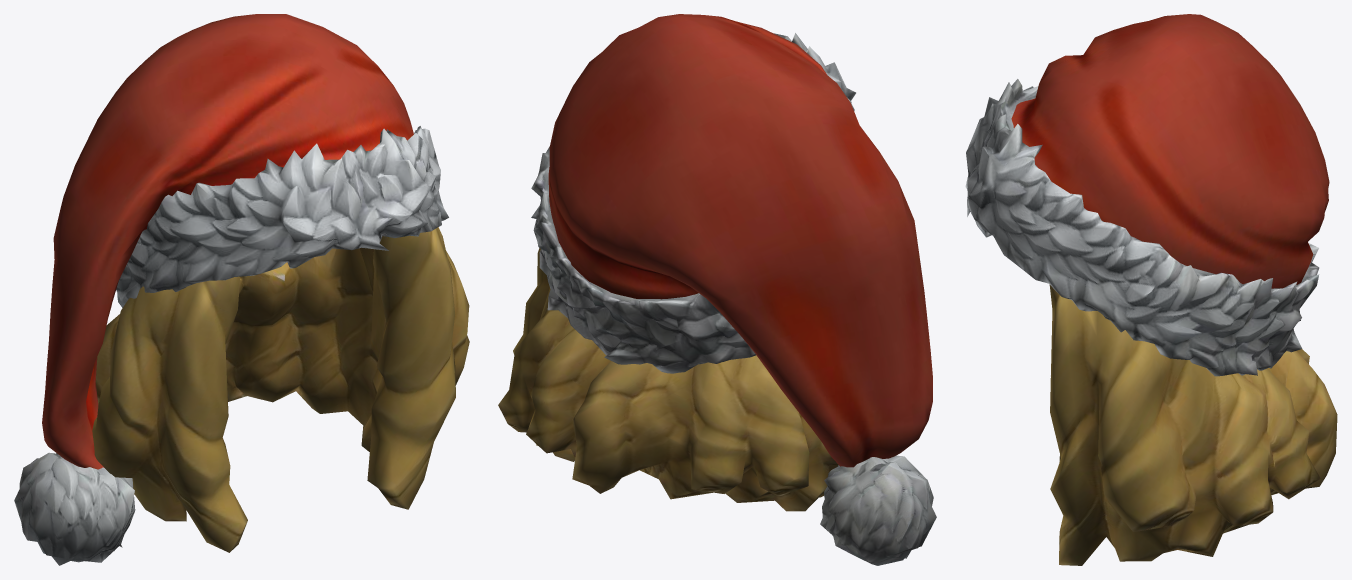
3 renders of one model, left to right at view 1: azimuth 30°, elevation 25°; view 2: azimuth 150°, elevation 25°; view 3: azimuth 270°, elevation 25°, orthographic. The views are drawn at different scales.
Parts seen in each view (by area): view 1: Wolf3D_Headwear; view 2: Wolf3D_Headwear; view 3: Wolf3D_Headwear.
Part boxes in pixels (x1,y1,x2,y2): Wolf3D_Headwear: (14, 14, 469, 565); Wolf3D_Headwear: (498, 14, 936, 565); Wolf3D_Headwear: (965, 14, 1337, 565).
Bounding box in the file's own units: 0.2986 × 0.338 × 0.2227.
1 material, 1 textured.
